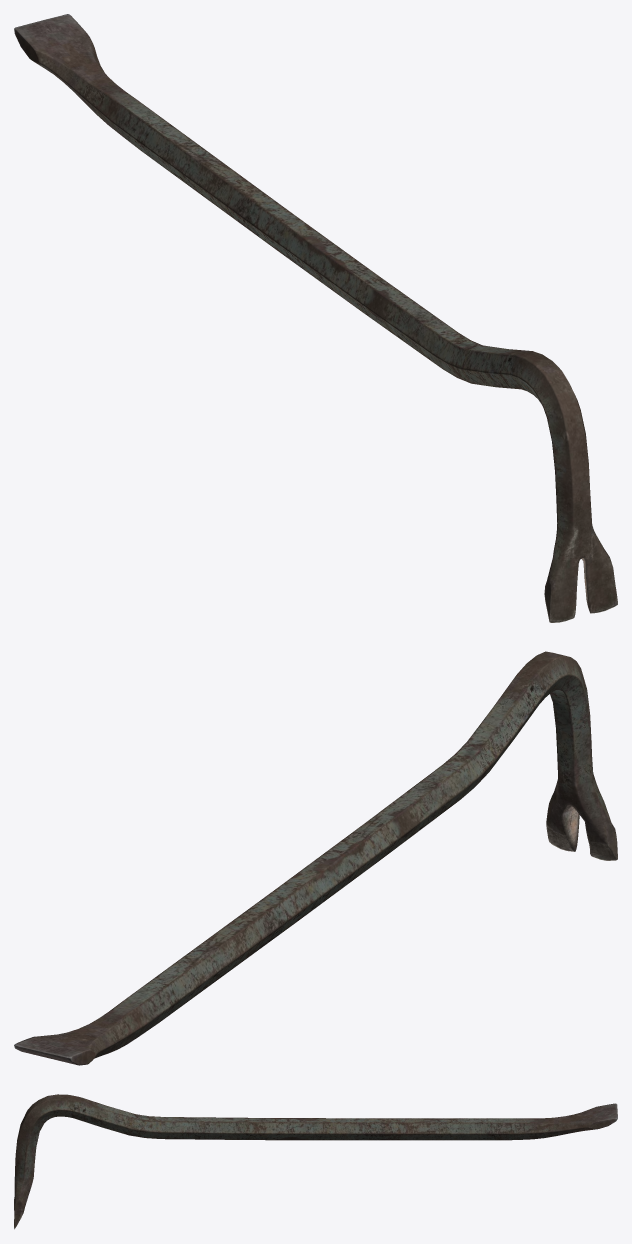
The model's file is melee_crowbar.glb.
3 views of the same model, one above another, from view 1: azimuth 30°, elevation 25°; view 2: azimuth 150°, elevation 25°; view 3: azimuth 270°, elevation 25° (orthographic). The views are drawn at different scales.
Visible parts, largest first — view 1: body; view 2: body; view 3: body.
Part boxes in pixels (bbox=[...]): body: bbox=[14, 14, 617, 622]; body: bbox=[14, 651, 617, 1065]; body: bbox=[14, 1094, 617, 1229].
Bounding box in the file's own units: 0.0404 × 0.1276 × 0.5554.
1 material, 1 textured.
